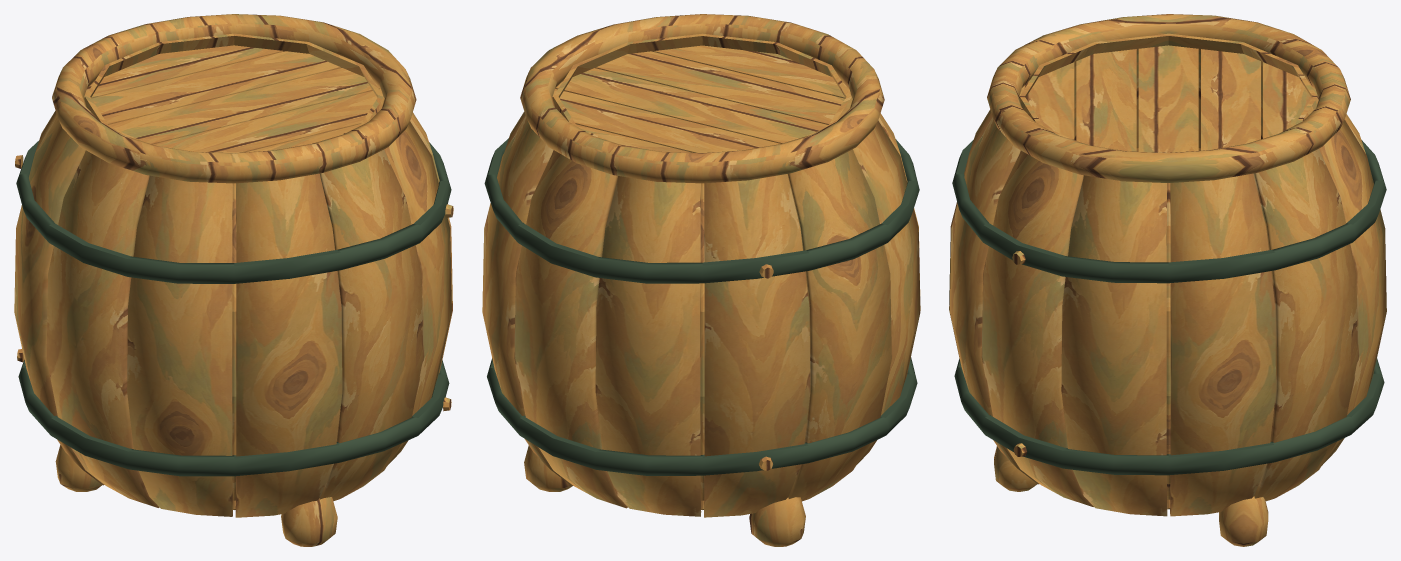
Rendered from aether_barrel_shape_bloomwalker.glb.
The picture shows the model from 3 angles, left to right: view 1: azimuth 30°, elevation 25°; view 2: azimuth 150°, elevation 25°; view 3: azimuth 270°, elevation 25°; orthographic projection.
Parts seen in each view (by area): view 1: aether_barrel_shape_bloomwalker; view 2: aether_barrel_shape_bloomwalker; view 3: aether_barrel_shape_bloomwalker.
Part boxes in pixels (box(x1,y1,x2,y2)): aether_barrel_shape_bloomwalker: box(14, 14, 453, 546); aether_barrel_shape_bloomwalker: box(482, 14, 920, 546); aether_barrel_shape_bloomwalker: box(949, 14, 1386, 546).
Size of the model in its own units: 1.01 by 1.02 by 1.01.
2 materials, 1 textured.
